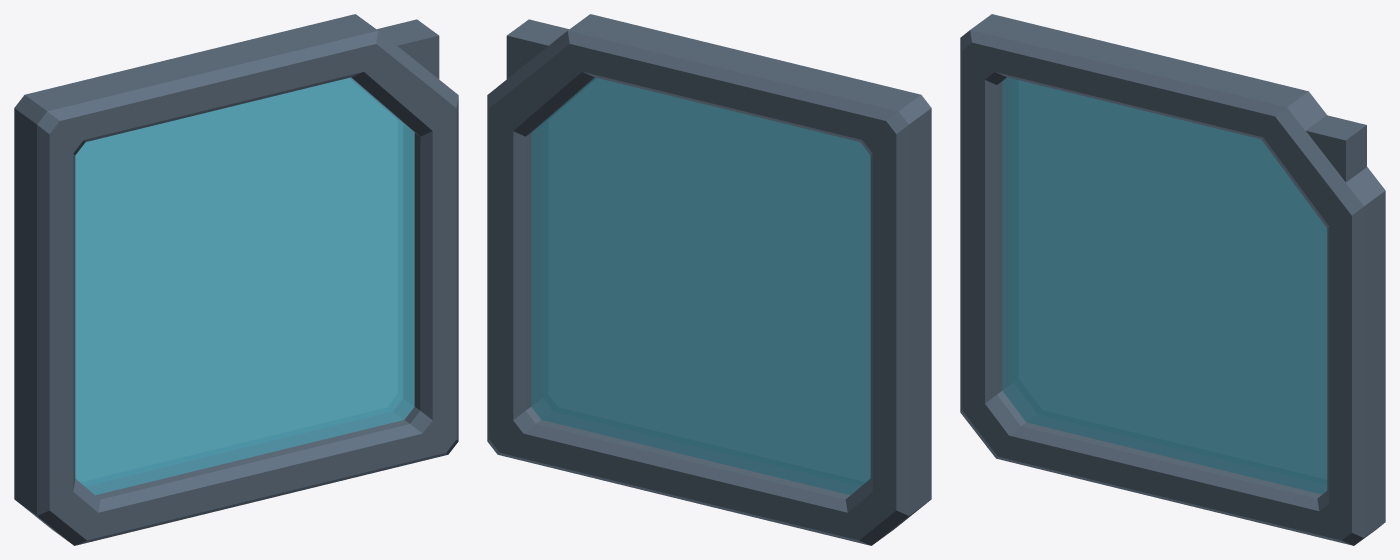
The model's file is Windows-1.fbx.
3 renders of one model, left to right at view 1: azimuth 30°, elevation 25°; view 2: azimuth 150°, elevation 25°; view 3: azimuth 330°, elevation 25°, orthographic. The views are drawn at different scales.
Parts seen in each view (by area): view 1: Windows-1; view 2: Windows-1; view 3: Windows-1.
Part boxes in pixels (x1,y1,x2,y2): Windows-1: (14, 14, 458, 545); Windows-1: (487, 14, 931, 545); Windows-1: (960, 14, 1385, 545).
Size of the model in its own units: 2.2 by 2.2 by 0.3.
